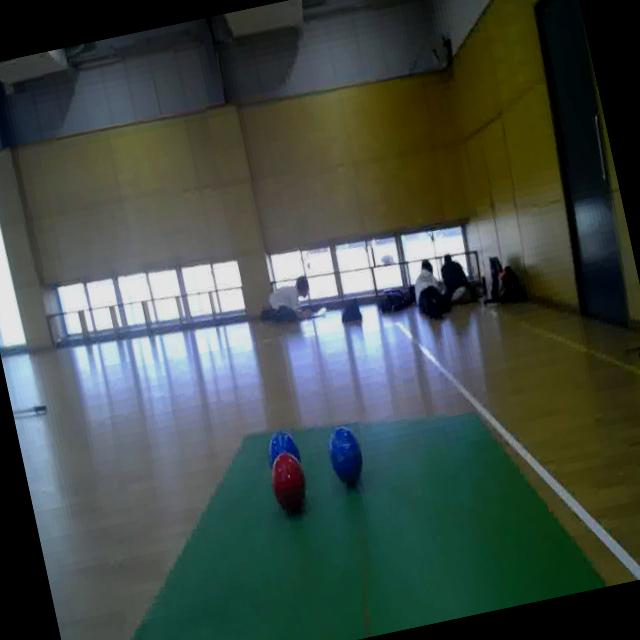blue_ball: (322, 421, 366, 488), (262, 422, 307, 473)
red_ball: (266, 452, 314, 516)
